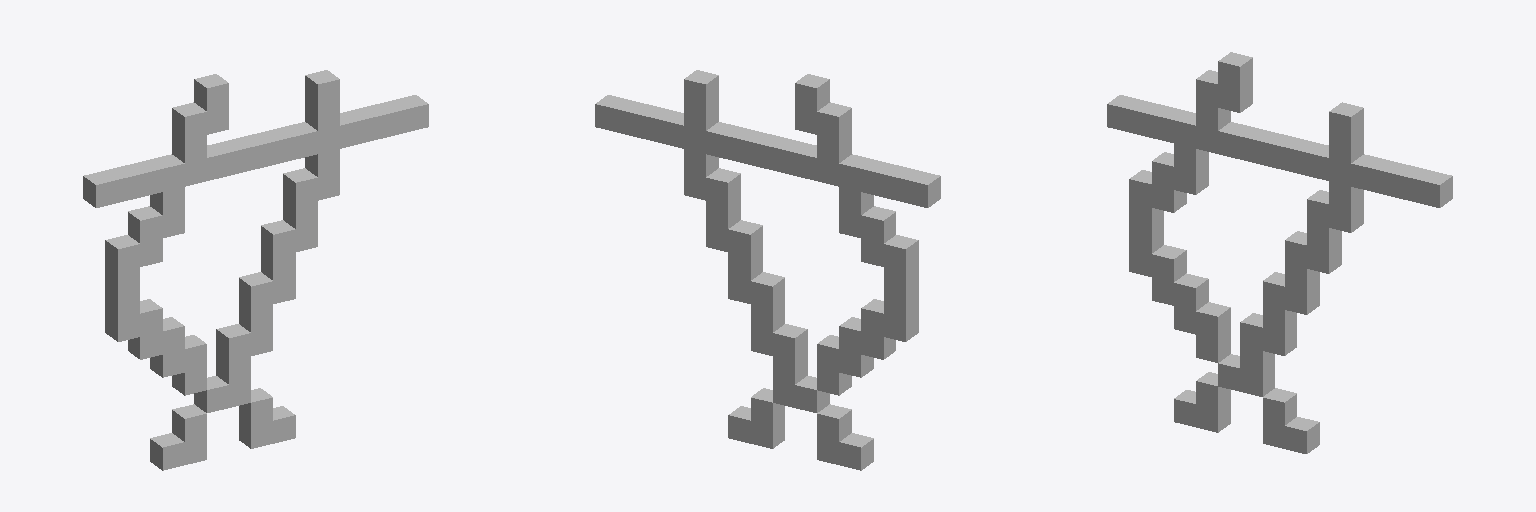
The model's file is woman.obj.
3 renders of one model, left to right at view 1: azimuth 30°, elevation 25°; view 2: azimuth 150°, elevation 25°; view 3: azimuth 330°, elevation 25°, orthographic.
Parts seen in each view (by area): view 1: woman; view 2: woman; view 3: woman.
Boxes of the visible parts, <box> form: woman: <box>83,70,428,470</box>; woman: <box>595,70,940,470</box>; woman: <box>1107,52,1452,453</box>.
Bounding box in the file's own units: 15 × 16 × 1.